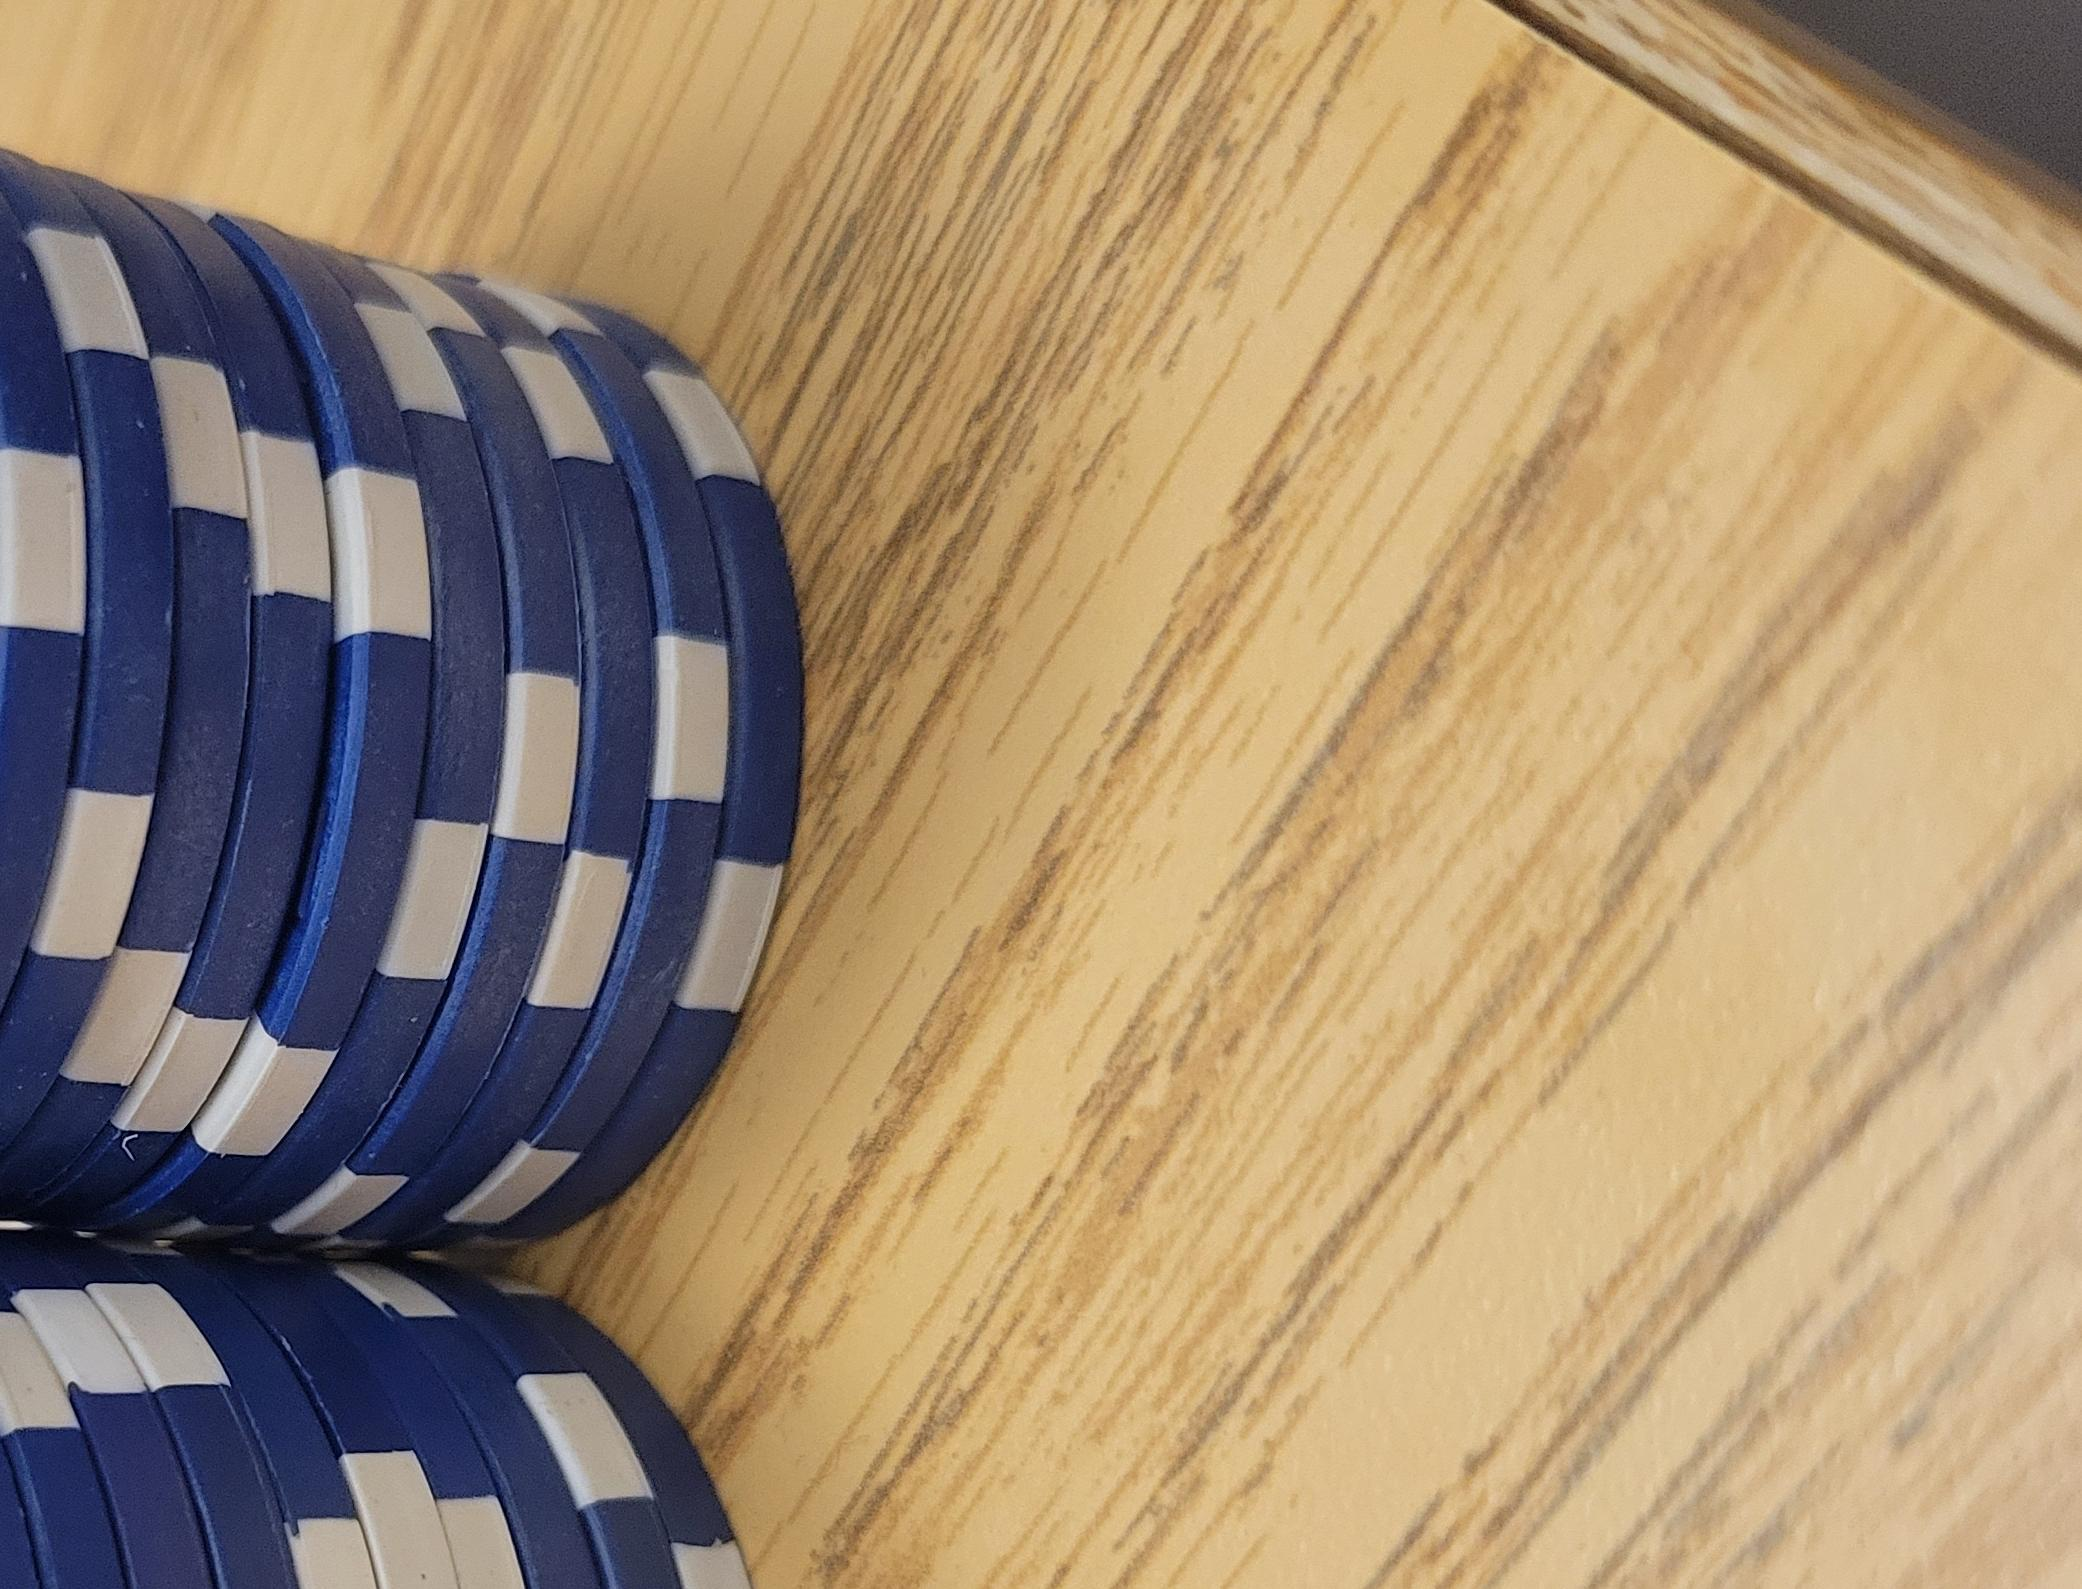Chip: (2, 102, 1128, 1589)
